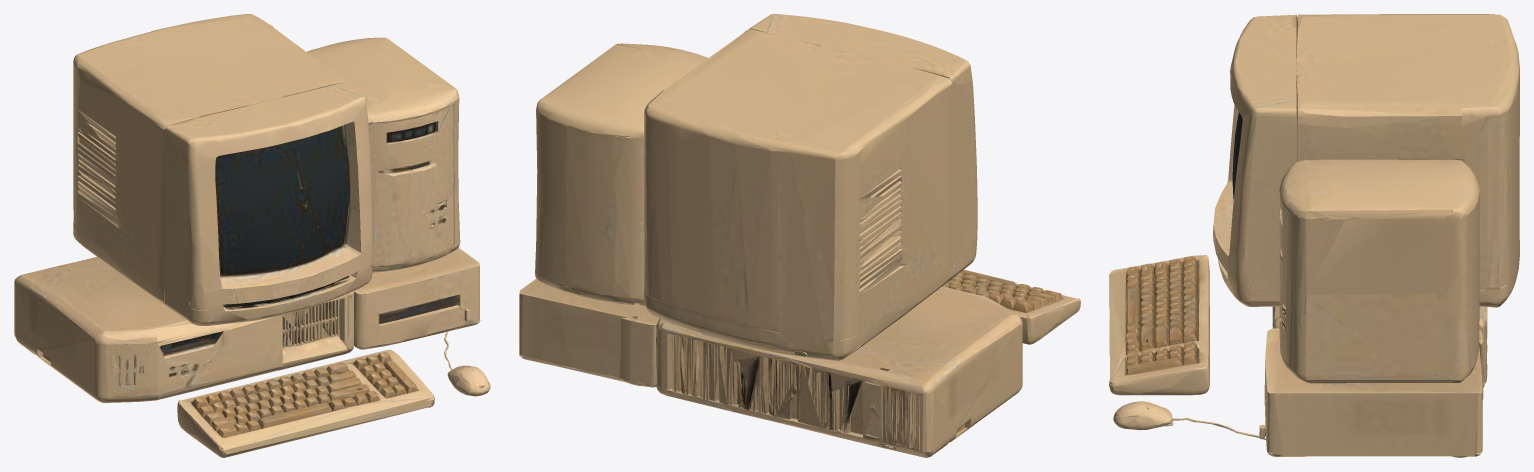
File: os-computer.glb
3 renders of one model, left to right at view 1: azimuth 30°, elevation 25°; view 2: azimuth 150°, elevation 25°; view 3: azimuth 270°, elevation 25°, orthographic. The views are drawn at different scales.
Bounding box in the file's own units: 1.9 × 1.31 × 1.69.
1 material, 1 textured.
